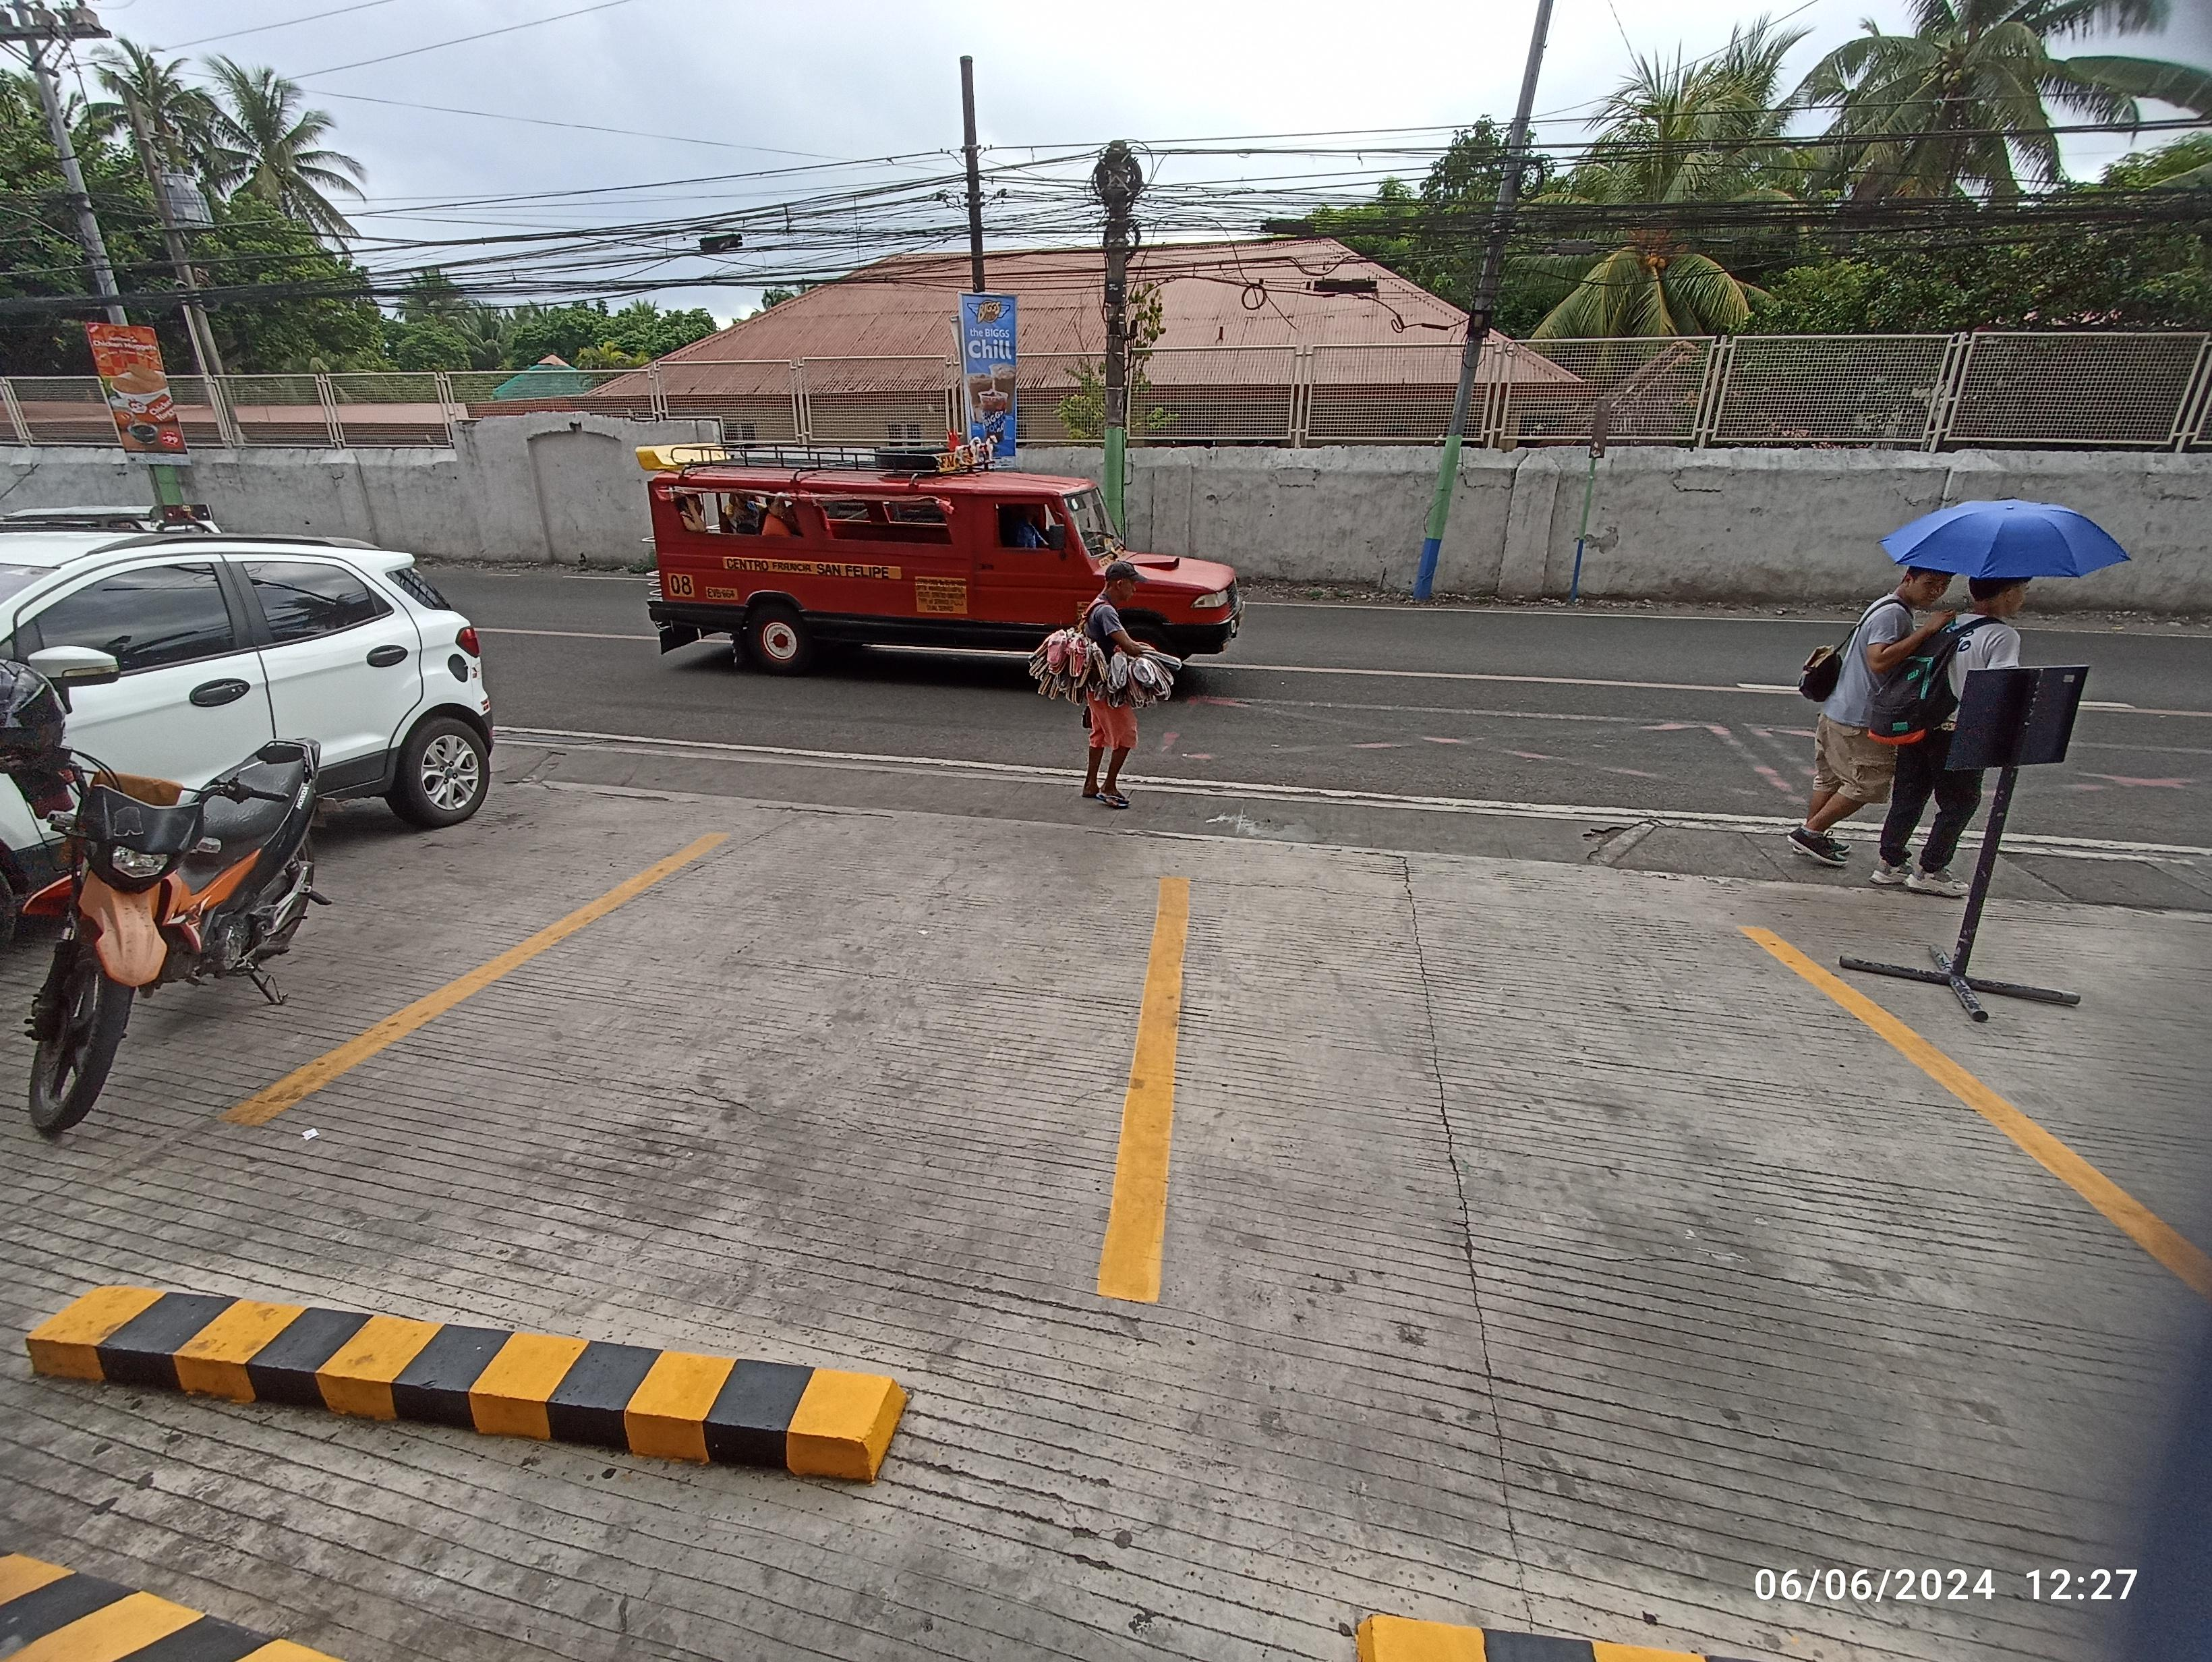vacant: (3, 829, 1198, 1430), (1084, 866, 2212, 1315)
